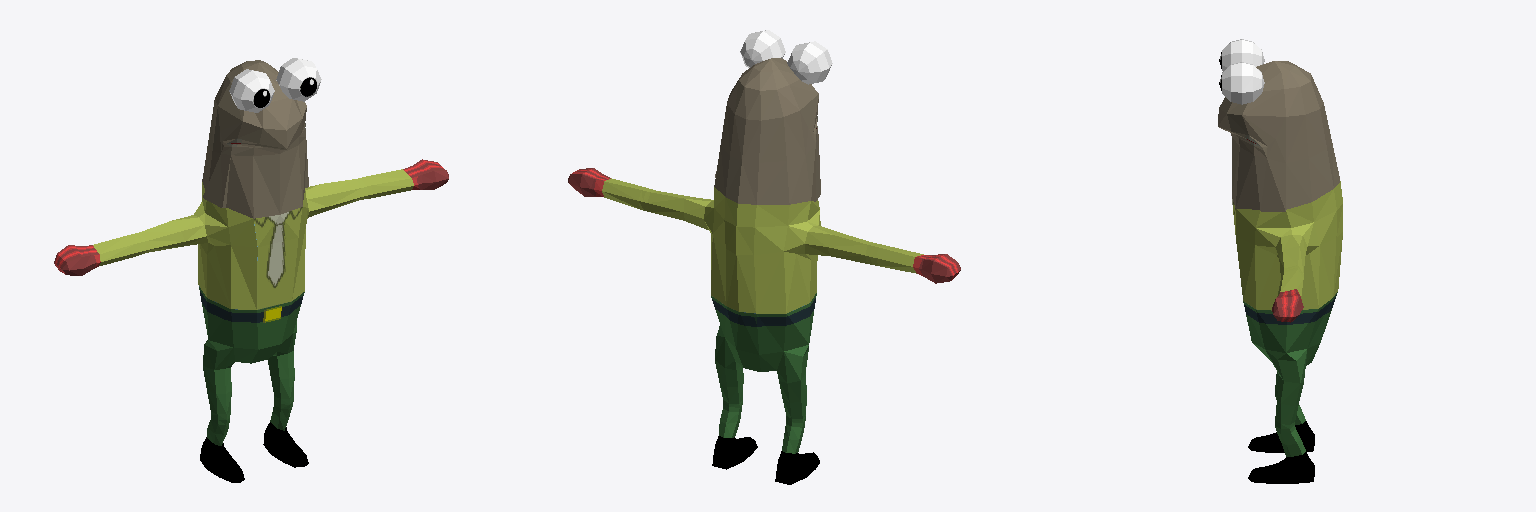
The picture shows the model from 3 angles: view 1: azimuth 30°, elevation 25°; view 2: azimuth 150°, elevation 25°; view 3: azimuth 270°, elevation 25°; orthographic projection.
Parts seen in each view (by area): view 1: Object001; view 2: Object001; view 3: Object001.
Part boxes in pixels (x1,y1,x2,y2): Object001: (54, 58, 448, 482); Object001: (568, 30, 960, 484); Object001: (1218, 39, 1342, 483).
Size of the model in its own units: 0.4169 by 0.4269 by 0.118.
Materials: 2 (2 with a texture image).